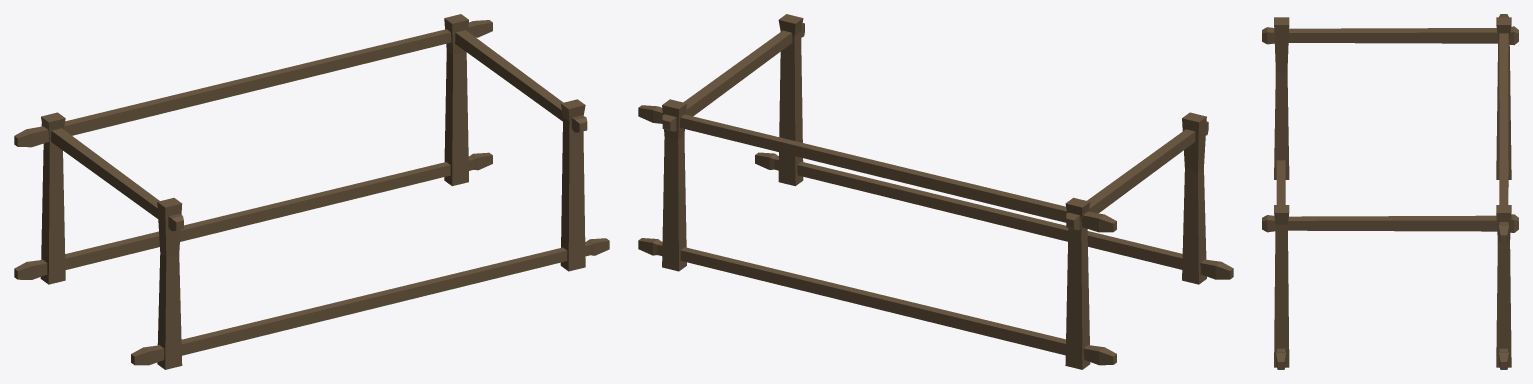
File: SM_Prop_SugarCane_Holder_01.glb
The picture shows the model from 3 angles, left to right: view 1: azimuth 30°, elevation 25°; view 2: azimuth 150°, elevation 25°; view 3: azimuth 270°, elevation 25°; orthographic projection. The views are drawn at different scales.
Parts seen in each view (by area): view 1: SM_Prop_SugarCane_Holder_01_part00; view 2: SM_Prop_SugarCane_Holder_01_part00; view 3: SM_Prop_SugarCane_Holder_01_part00.
Boxes of the visible parts, x1,y1,x2,y2 form: SM_Prop_SugarCane_Holder_01_part00: (14,14,609,369); SM_Prop_SugarCane_Holder_01_part00: (638,14,1233,369); SM_Prop_SugarCane_Holder_01_part00: (1262,14,1518,369).
Size of the model in its own units: 2.08 by 0.6774 by 1.02.
Materials: 1 (1 with a texture image).
